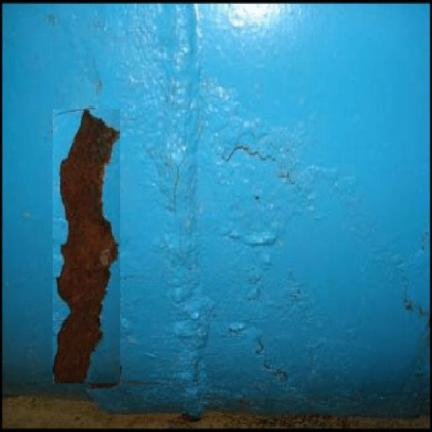besi_tidak_karat: (118, 5, 430, 408)
karat: (54, 111, 119, 383)
